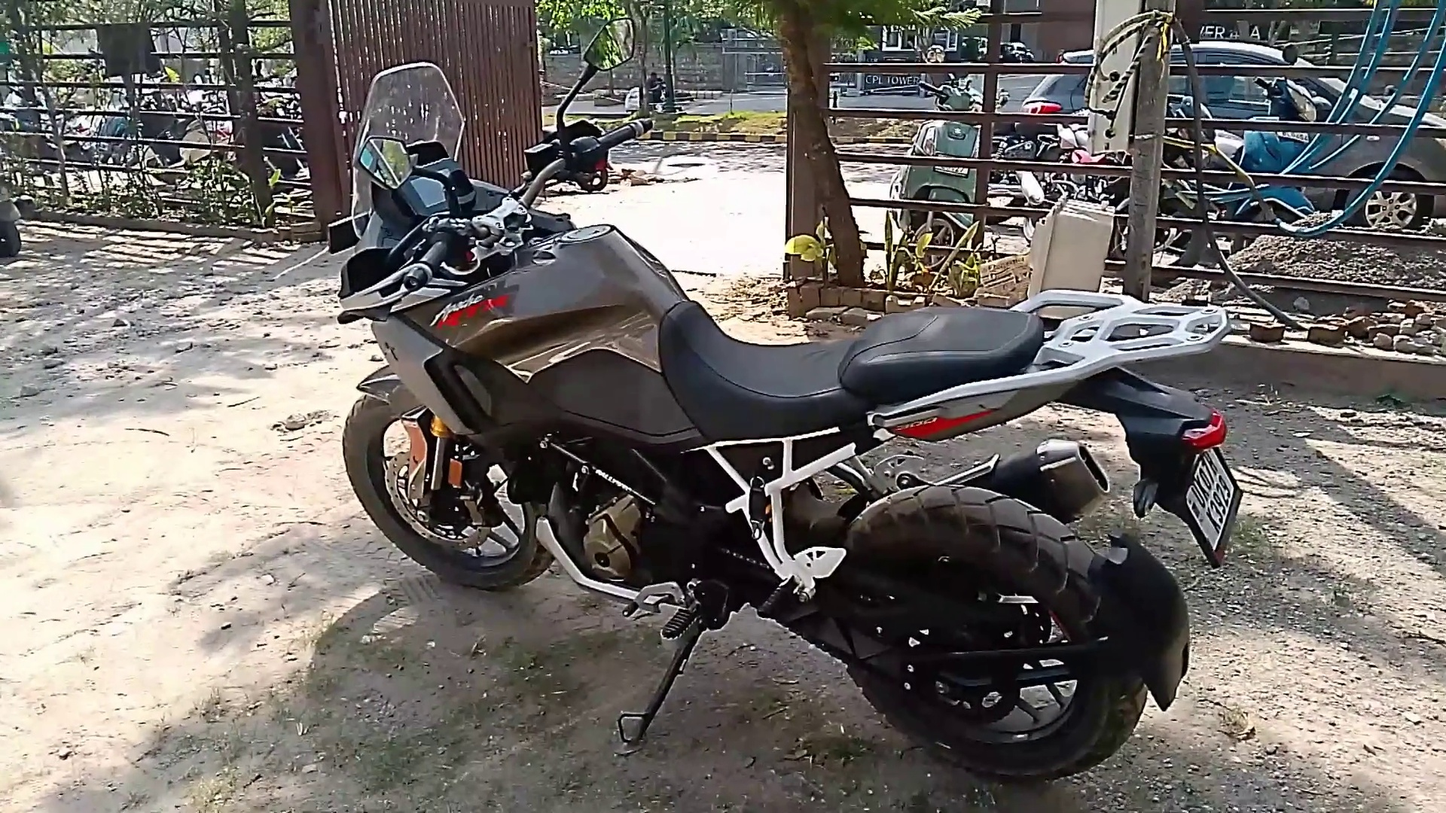engine: (555, 444, 670, 602)
